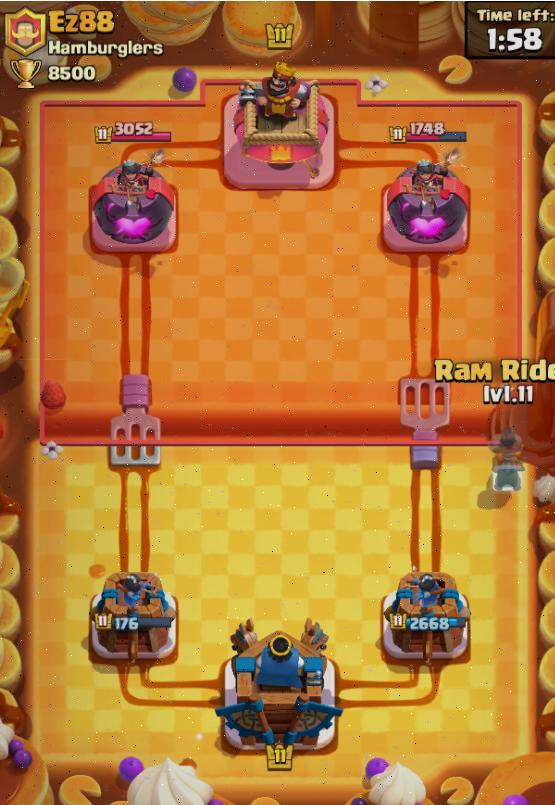EKingTower: (223, 63, 334, 190)
EnemyPrincessTower: (382, 149, 469, 253), (90, 149, 176, 253)
ORamrider: (488, 426, 523, 494)
OwnKingTower: (216, 619, 341, 750)
OwnPrincessTower: (382, 568, 469, 663), (90, 573, 176, 662)
